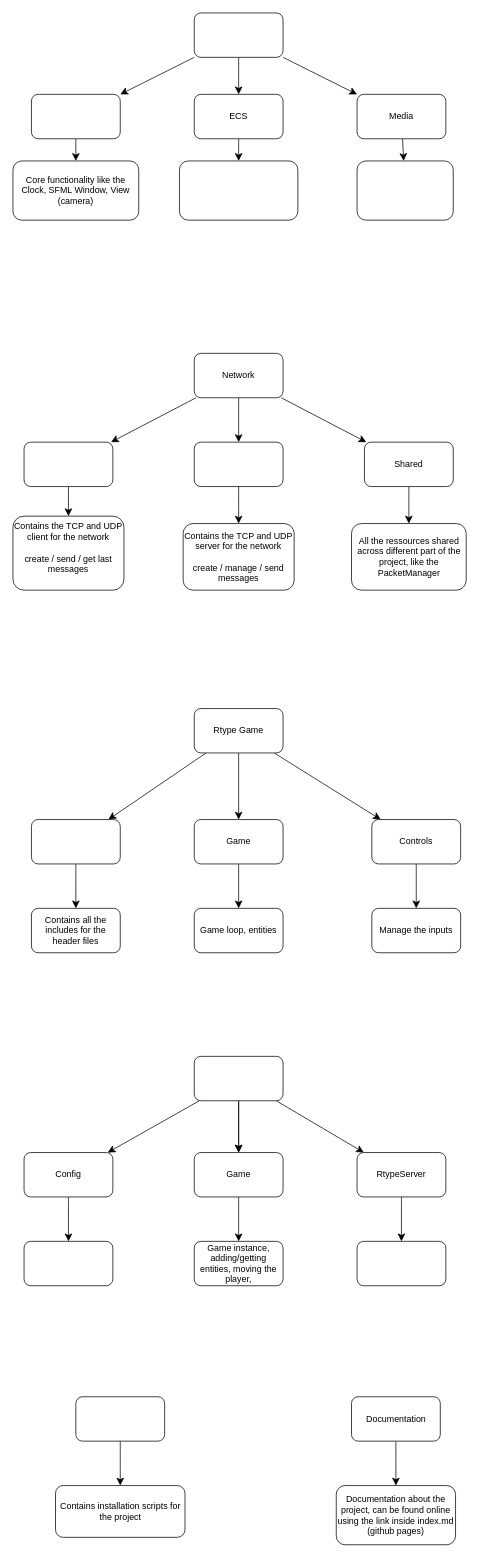
This 480x1558 diagram has some shape labels left out. The shapes that lost their labels are listed below. From the top down, each one's centre as x and y in pixels, then its label:
At point (238, 34): "Game engine".
At point (75, 116): "Core".
At point (238, 190): "Entity Component System : Manages game objects, entities, and behaviors".
At point (404, 190): "Handles sound".
At point (68, 464): "Client".
At point (238, 464): "Server".
At point (75, 841): "Engine".
At point (238, 1078): "Rtype server".
At point (68, 1263): "Manages the server config (server_tick, broadcast tick..)".
At point (401, 1263): "Manages events, game instance, simulation".
At point (120, 1418): "Scripts".
